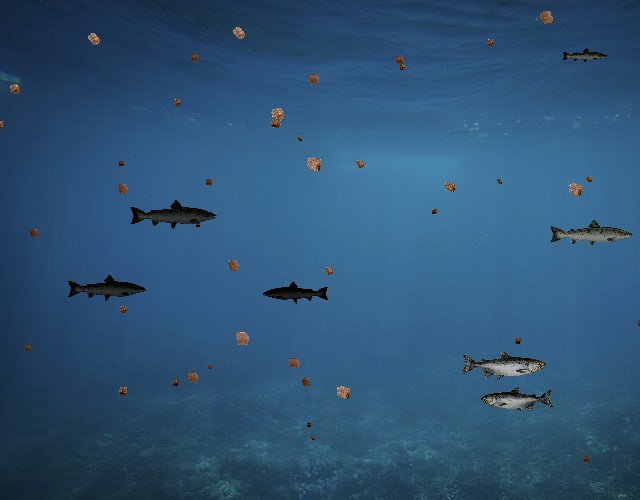Fish: (128, 199, 218, 231), (548, 218, 634, 249), (460, 350, 546, 381), (66, 274, 148, 303), (481, 387, 554, 413), (262, 280, 330, 305), (561, 48, 608, 65)
Pellet: (3, 78, 26, 100), (350, 155, 369, 174), (391, 51, 408, 69), (510, 334, 524, 348), (428, 205, 441, 218), (115, 158, 127, 170), (204, 362, 214, 372)
